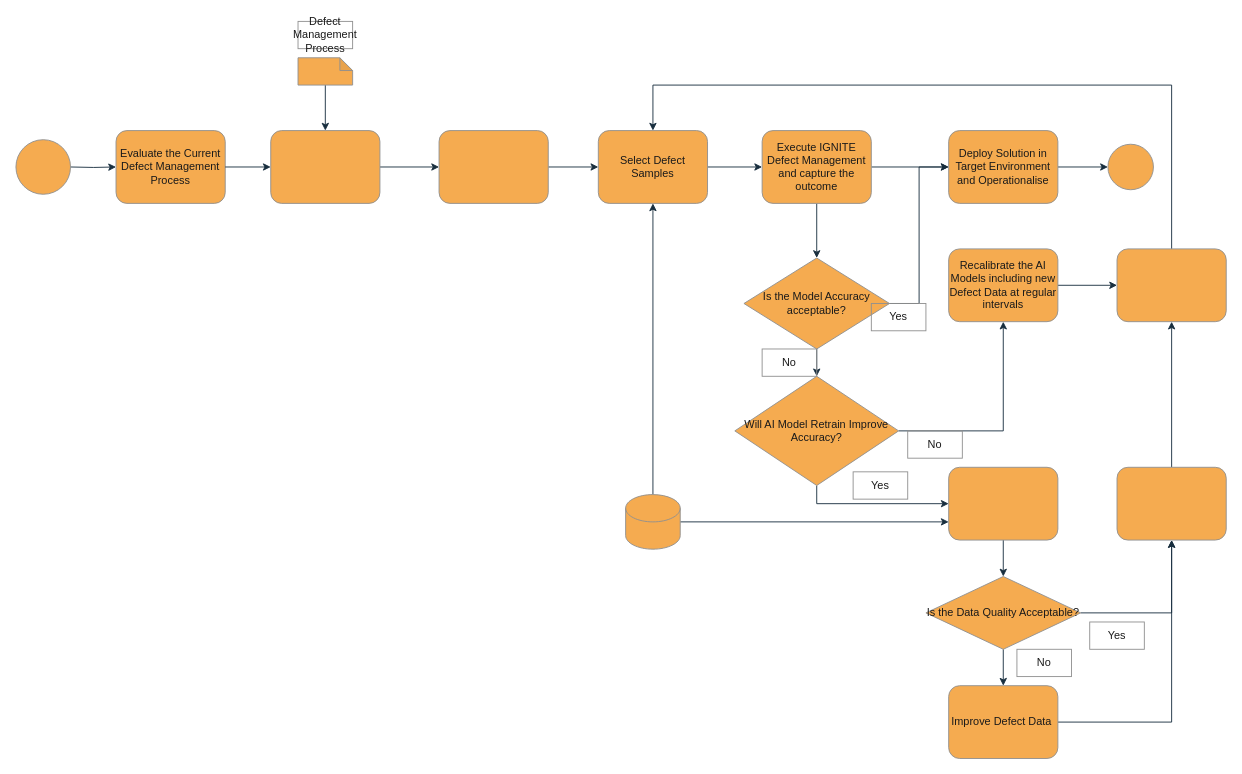
This 1242x774 diagram has some shape labels left out. The shapes that lost their labels are listed below. From the top down, each one's centre as x and y in pixels, then its label:
the point at 43,166: Start
the point at 325,166: Identify the Gaps in the process
the point at 493,166: Agree with Client to Evaluate fitment and Implement IGNITE Defect Management
the point at 1130,166: End
the point at 1171,285: Redeploy the AI Models
the point at 652,521: Defect Data
the point at 1003,503: Collect Historic Defect Data
the point at 1171,503: Retrain Base IGNITE Defect AI Models with Custom Data
